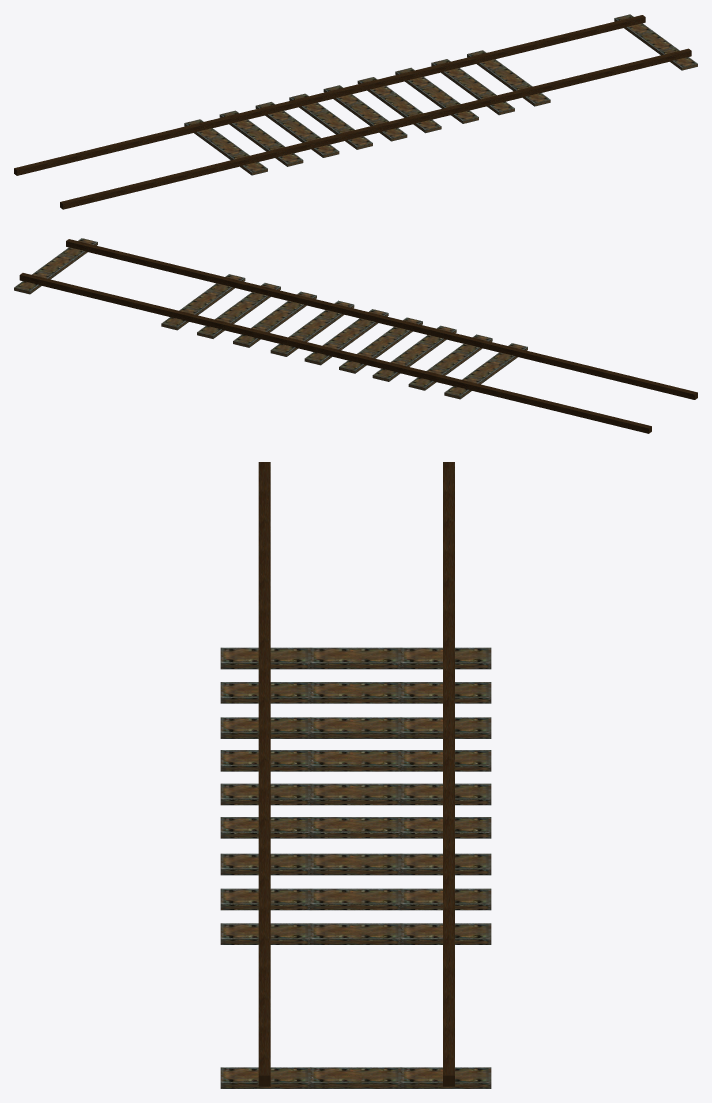
File: DWARF_PALACE_FORGE_MINECART_TRACKS.fbx
3 views of the same model, one above another, from view 1: azimuth 30°, elevation 25°; view 2: azimuth 150°, elevation 25°; view 3: azimuth 270°, elevation 25° (orthographic). The views are drawn at different scales.
Visible parts, largest first — view 1: DWARF_PALACE_FORGE_MINECART_TRACKS; view 2: DWARF_PALACE_FORGE_MINECART_TRACKS; view 3: DWARF_PALACE_FORGE_MINECART_TRACKS.
Boxes of the visible parts, box(x1,y1,x2,y2) form: DWARF_PALACE_FORGE_MINECART_TRACKS: box(14, 14, 697, 209); DWARF_PALACE_FORGE_MINECART_TRACKS: box(14, 238, 697, 433); DWARF_PALACE_FORGE_MINECART_TRACKS: box(220, 462, 491, 1088).
Bounding box in the file's own units: 119412 × 1488 × 22262.
Materials: 2 (2 with a texture image).
